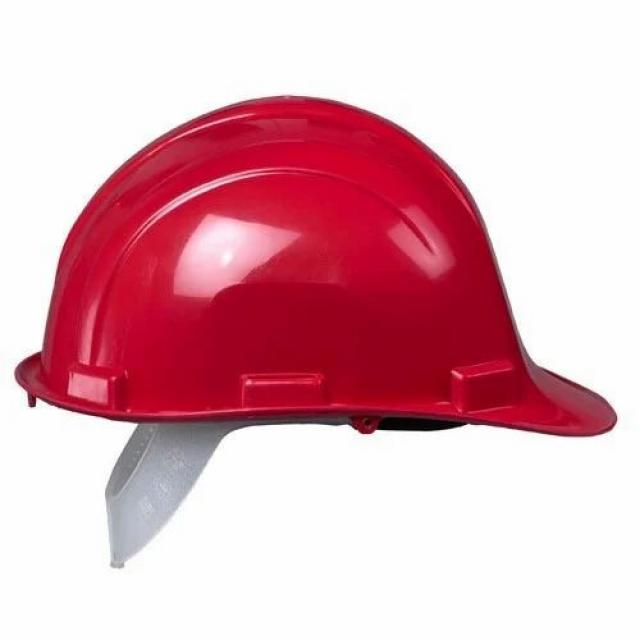Safety-Helmet: (8, 100, 592, 444)
